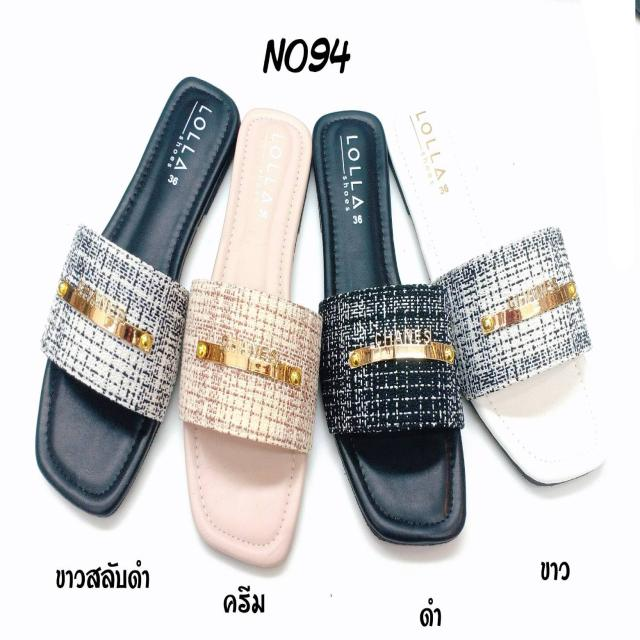black: (314, 115, 466, 543)
cream: (182, 108, 314, 568)
white: (384, 109, 614, 492)
white-black: (40, 80, 237, 516)
